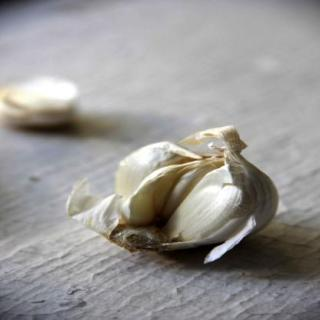Bawang Putih: (67, 128, 282, 270)
